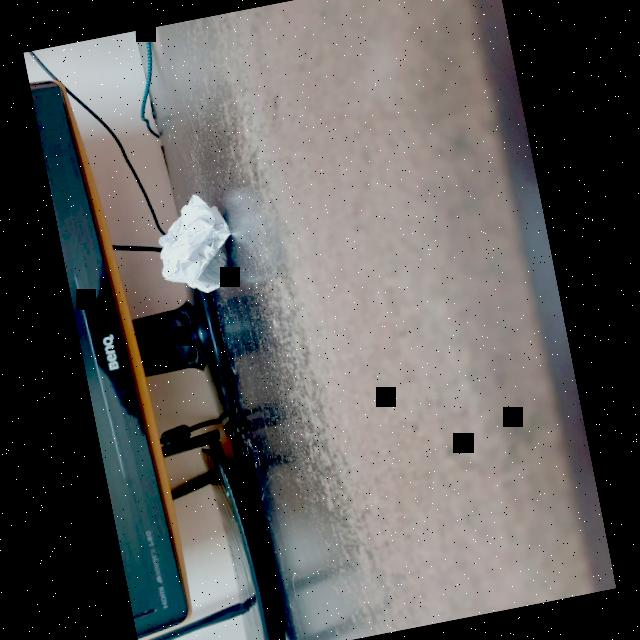scrap_paper: (148, 187, 248, 299)
